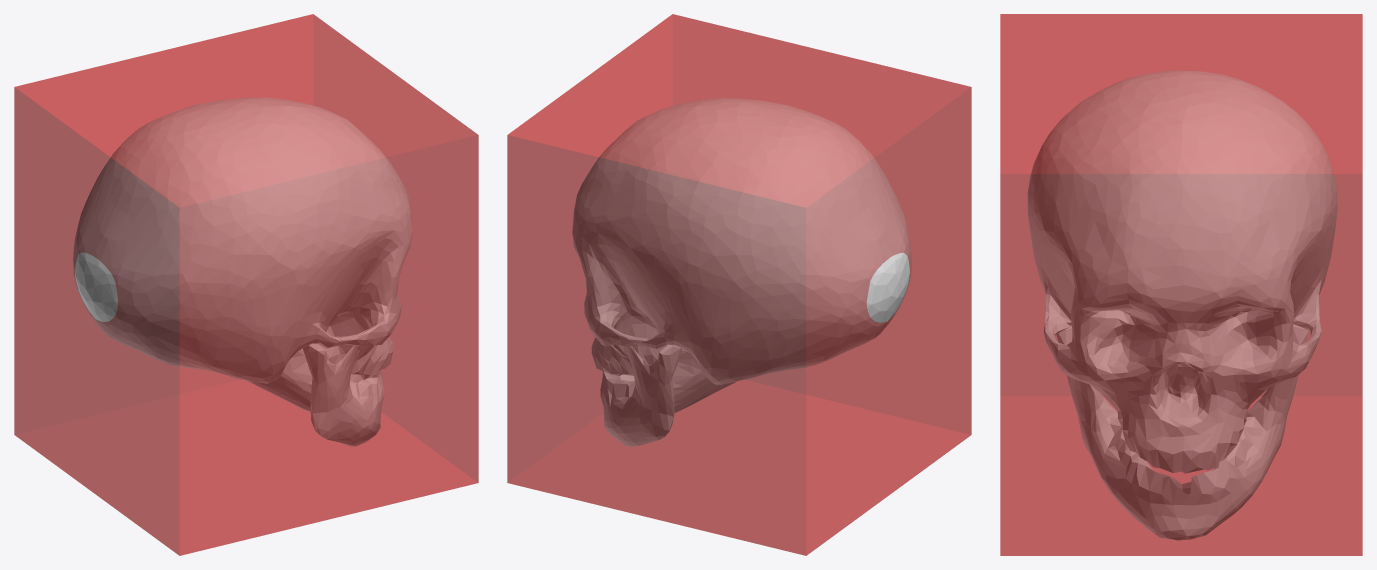
The model's file is Skull_view.dae.
3 renders of one model, left to right at view 1: azimuth 30°, elevation 25°; view 2: azimuth 150°, elevation 25°; view 3: azimuth 270°, elevation 25°, orthographic. The views are drawn at different scales.
Visible parts, largest first — view 1: Cube, Skull; view 2: Cube, Skull; view 3: Cube, Skull.
Boxes of the visible parts, x1,y1,x2,y2 form: Cube: [14, 14, 478, 555]; Skull: [73, 97, 412, 446]; Cube: [507, 14, 971, 555]; Skull: [572, 98, 912, 446]; Cube: [1000, 14, 1362, 555]; Skull: [1027, 70, 1337, 540].
Size of the model in its own units: 0.2185 by 0.2046 by 0.238.
